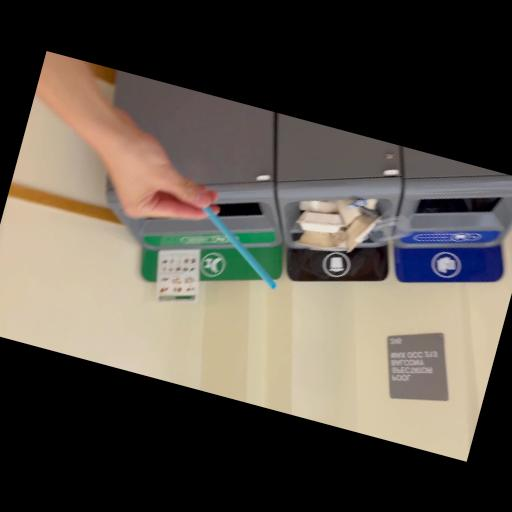straw: (187, 204, 292, 291)
